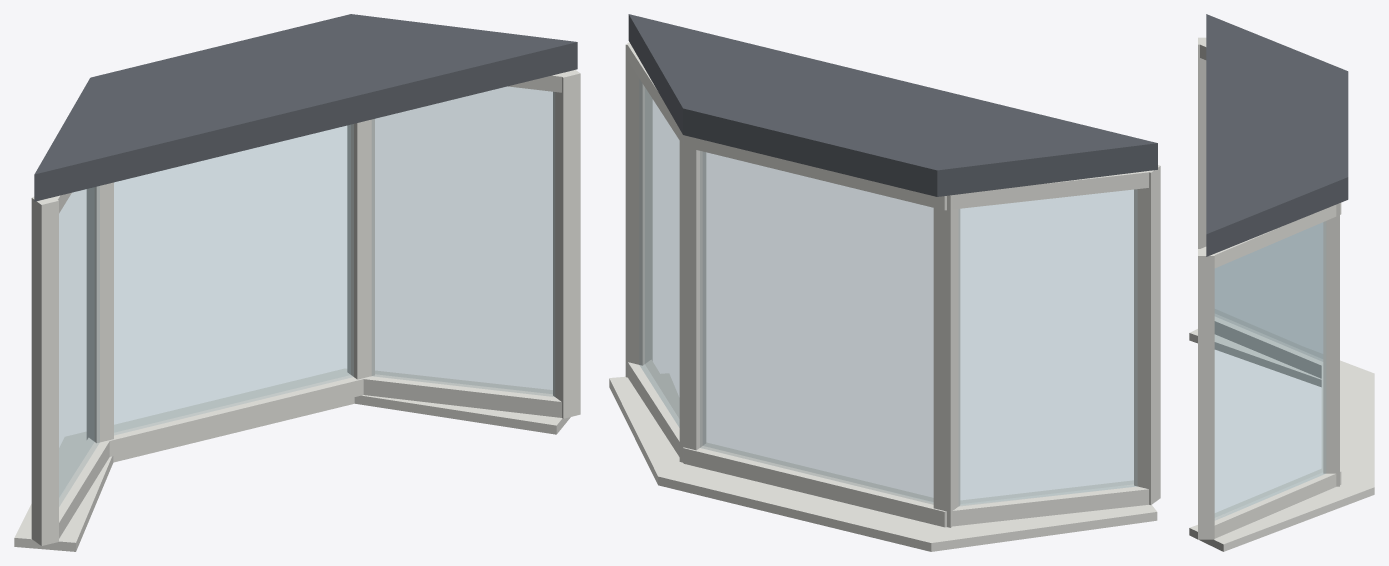
File: opening.window.bay.glb
3 renders of one model, left to right at view 1: azimuth 30°, elevation 25°; view 2: azimuth 150°, elevation 25°; view 3: azimuth 270°, elevation 25°, orthographic. The views are drawn at different scales.
Parts seen in each view (by area): view 1: glazing__glass, frame__paint_white, roof__lead; view 2: glazing__glass, frame__paint_white, roof__lead; view 3: glazing__glass, frame__paint_white, roof__lead.
Boxes of the visible parts, bbox=[...] form: glazing__glass: bbox=[59, 86, 554, 506]; frame__paint_white: bbox=[14, 70, 580, 551]; roof__lead: bbox=[34, 14, 577, 201]; glazing__glass: bbox=[639, 80, 1137, 506]; frame__paint_white: bbox=[609, 42, 1160, 551]; roof__lead: bbox=[628, 14, 1157, 196]; glazing__glass: bbox=[1214, 221, 1325, 520]; frame__paint_white: bbox=[1189, 37, 1374, 551]; roof__lead: bbox=[1206, 14, 1348, 256].
Bounding box in the file's own units: 2.59 × 1.66 × 0.8887.
